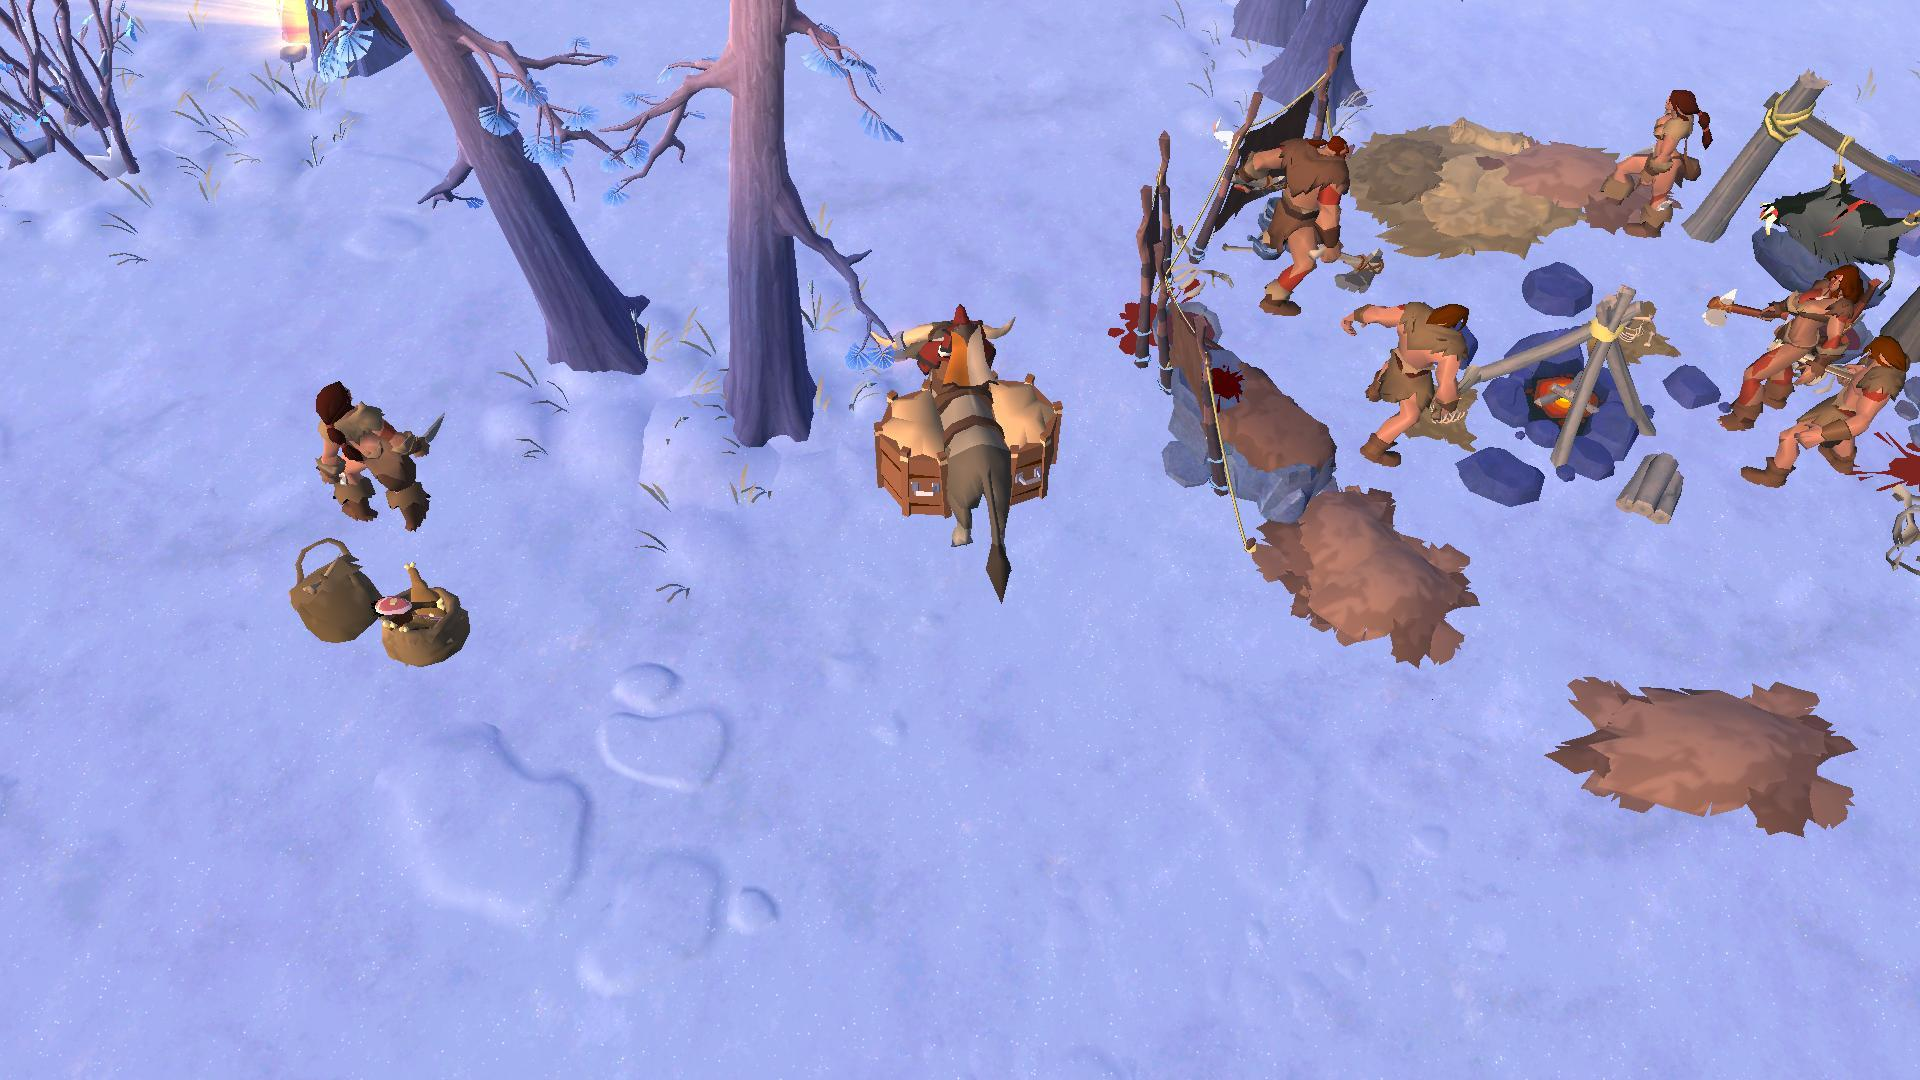enemy_factionKeeper: (1747, 338, 1912, 496), (1712, 256, 1863, 423), (1342, 299, 1470, 480), (307, 373, 436, 534), (1247, 125, 1349, 322), (1605, 82, 1716, 239)
